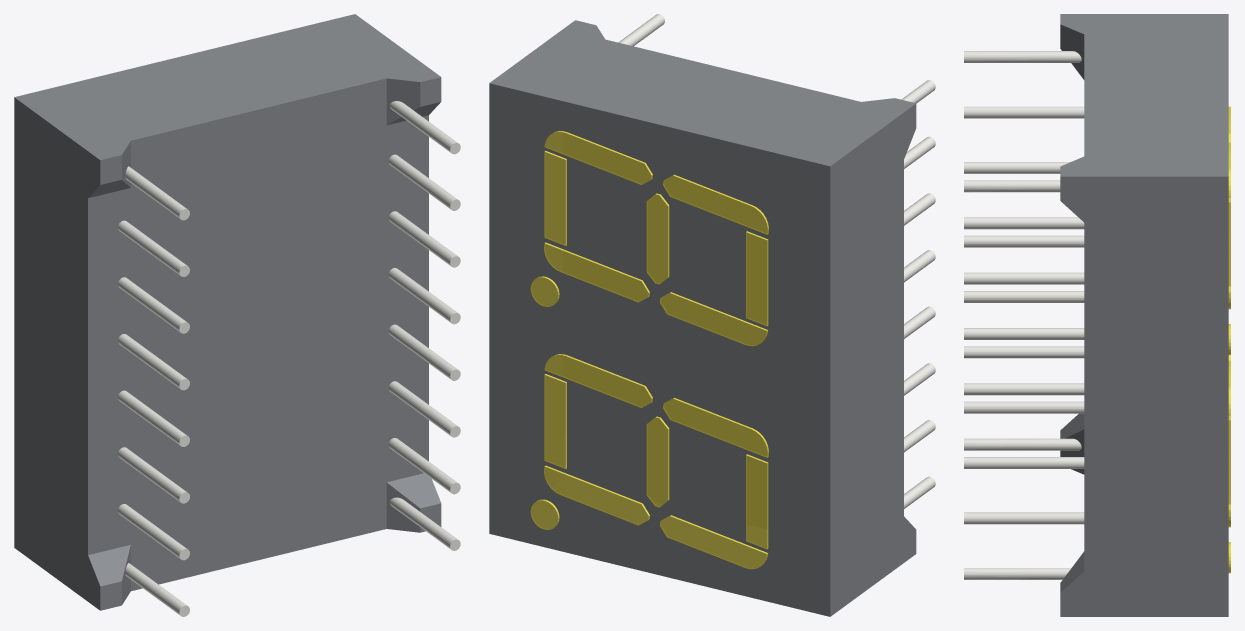
The model's file is DA04-11SYKWA.glb.
3 views of the same model, side by side, from view 1: azimuth 30°, elevation 25°; view 2: azimuth 150°, elevation 25°; view 3: azimuth 270°, elevation 25° (orthographic). The views are drawn at different scales.
Parts seen in each view (by area): view 1: Shape_IndexedFaceSet.003, Shape_IndexedFaceSet.006, Shape_IndexedFaceSet.021, Shape_IndexedFaceSet.002, Shape_IndexedFaceSet.013, Shape_IndexedFaceSet.012, Shape_IndexedFaceSet.014, Shape_IndexedFaceSet.004, Shape_IndexedFaceSet.028, Shape_IndexedFaceSet.036, Shape_IndexedFaceSet.030, Shape_IndexedFaceSet.032 (+15 smaller); view 2: Shape_IndexedFaceSet.020, Shape_IndexedFaceSet.006, Shape_IndexedFaceSet.021, Shape_IndexedFaceSet.147, Shape_IndexedFaceSet.152, Shape_IndexedFaceSet.157, Shape_IndexedFaceSet.155, Shape_IndexedFaceSet.161, Shape_IndexedFaceSet.149, Shape_IndexedFaceSet.150, Shape_IndexedFaceSet.158, Shape_IndexedFaceSet.159 (+7 smaller); view 3: Shape_IndexedFaceSet.027, Shape_IndexedFaceSet.021, Shape_IndexedFaceSet.008, Shape_IndexedFaceSet.010, Shape_IndexedFaceSet.011, Shape_IndexedFaceSet.031, Shape_IndexedFaceSet.032, Shape_IndexedFaceSet.034, Shape_IndexedFaceSet.035, Shape_IndexedFaceSet.001, Shape_IndexedFaceSet.038, Shape_IndexedFaceSet.009 (+10 smaller).
Part boxes in pixels (bbox=[...]): Shape_IndexedFaceSet.003: bbox=[131, 125, 386, 544]; Shape_IndexedFaceSet.006: bbox=[14, 97, 100, 610]; Shape_IndexedFaceSet.021: bbox=[14, 14, 440, 159]; Shape_IndexedFaceSet.002: bbox=[88, 188, 130, 554]; Shape_IndexedFaceSet.013: bbox=[131, 78, 386, 187]; Shape_IndexedFaceSet.012: bbox=[386, 115, 428, 481]; Shape_IndexedFaceSet.014: bbox=[131, 482, 386, 591]; Shape_IndexedFaceSet.004: bbox=[88, 545, 130, 586]; Shape_IndexedFaceSet.028: bbox=[387, 473, 440, 508]; Shape_IndexedFaceSet.036: bbox=[386, 78, 420, 124]; Shape_IndexedFaceSet.030: bbox=[388, 381, 458, 435]; Shape_IndexedFaceSet.032: bbox=[388, 324, 457, 379]; Shape_IndexedFaceSet.020: bbox=[489, 83, 830, 616]; Shape_IndexedFaceSet.006: bbox=[830, 104, 916, 616]; Shape_IndexedFaceSet.021: bbox=[489, 20, 915, 166]; Shape_IndexedFaceSet.147: bbox=[544, 132, 651, 184]; Shape_IndexedFaceSet.152: bbox=[663, 175, 767, 234]; Shape_IndexedFaceSet.157: bbox=[544, 355, 651, 407]; Shape_IndexedFaceSet.155: bbox=[663, 398, 767, 457]; Shape_IndexedFaceSet.161: bbox=[544, 466, 648, 525]; Shape_IndexedFaceSet.149: bbox=[544, 243, 648, 302]; Shape_IndexedFaceSet.150: bbox=[659, 293, 766, 346]; Shape_IndexedFaceSet.158: bbox=[659, 516, 766, 569]; Shape_IndexedFaceSet.159: bbox=[746, 455, 767, 549]; Shape_IndexedFaceSet.027: bbox=[1060, 176, 1228, 616]; Shape_IndexedFaceSet.021: bbox=[1060, 14, 1228, 176]; Shape_IndexedFaceSet.008: bbox=[964, 272, 1084, 284]; Shape_IndexedFaceSet.010: bbox=[964, 106, 1084, 118]; Shape_IndexedFaceSet.011: bbox=[964, 383, 1084, 395]; Shape_IndexedFaceSet.031: bbox=[964, 512, 1084, 524]; Shape_IndexedFaceSet.032: bbox=[964, 401, 1084, 413]; Shape_IndexedFaceSet.034: bbox=[964, 346, 1084, 358]; Shape_IndexedFaceSet.035: bbox=[964, 235, 1084, 247]; Shape_IndexedFaceSet.001: bbox=[964, 217, 1084, 229]; Shape_IndexedFaceSet.038: bbox=[964, 438, 1081, 450]; Shape_IndexedFaceSet.009: bbox=[964, 328, 1084, 339].
Bounding box in the file's own units: 6.3 × 7.95 × 4.37.
